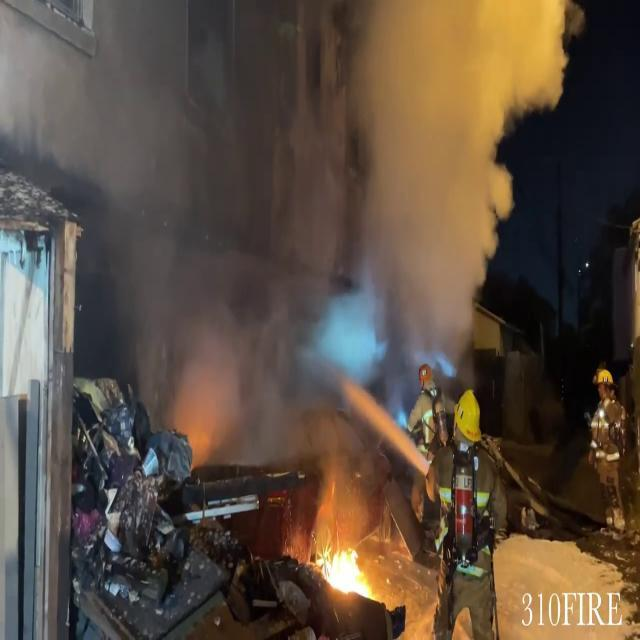Fire: (310, 528, 382, 604)
Smoke: (47, 0, 359, 460), (343, 0, 584, 363)
